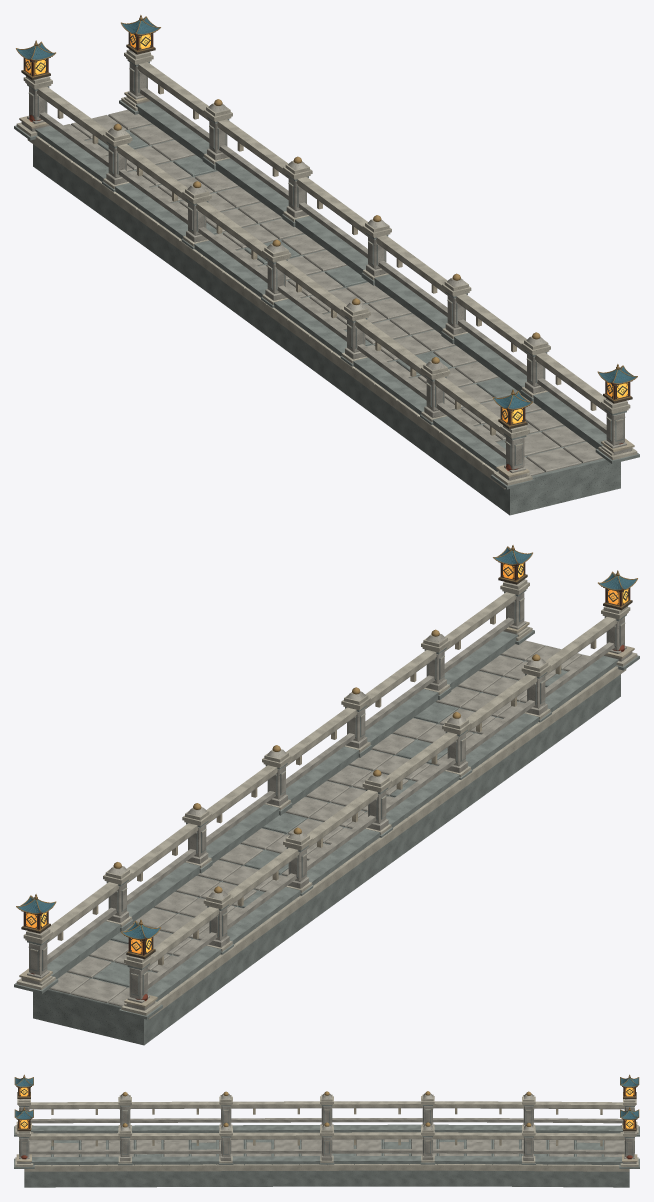
3 renders of one model, top to bottom at view 1: azimuth 30°, elevation 25°; view 2: azimuth 150°, elevation 25°; view 3: azimuth 270°, elevation 25°, orthographic. The views are drawn at different scales.
Parts seen in each view (by area): view 1: C16_cool, C16_stone, C16_light, C16_relief, C16_blue, C16_gold, C16_bronze, C16_paper; view 2: C16_cool, C16_stone, C16_light, C16_relief, C16_blue, C16_gold, C16_bronze, C16_paper; view 3: C16_cool, C16_stone, C16_light, C16_relief, C16_blue, C16_gold, C16_bronze, C16_paper, C16_teal, C16_motif.
Part boxes in pixels (x1,y1,x2,y2): C16_cool: [14, 60, 639, 515]; C16_stone: [21, 49, 632, 480]; C16_light: [16, 49, 637, 489]; C16_relief: [19, 84, 634, 477]; C16_blue: [17, 17, 636, 408]; C16_gold: [16, 15, 637, 426]; C16_bronze: [21, 32, 632, 429]; C16_paper: [25, 33, 627, 423]; C16_cool: [14, 590, 639, 1045]; C16_stone: [21, 579, 632, 1010]; C16_light: [16, 579, 637, 1019]; C16_relief: [19, 615, 634, 1007]; C16_blue: [17, 547, 636, 938]; C16_gold: [16, 545, 637, 956]; C16_bronze: [21, 562, 632, 959]; C16_paper: [26, 563, 628, 953]; C16_cool: [14, 1105, 639, 1187]; C16_stone: [17, 1093, 636, 1163]; C16_light: [15, 1094, 638, 1171]; C16_relief: [16, 1108, 637, 1161]; C16_blue: [15, 1078, 638, 1119]; C16_gold: [14, 1074, 639, 1129]; C16_bronze: [17, 1087, 636, 1131]; C16_paper: [19, 1087, 634, 1128]; C16_teal: [15, 1078, 638, 1118]; C16_motif: [122, 1091, 531, 1127].
Bounding box in the file's own units: 2.51 × 2.27 × 16.13.
12 materials, 5 textured.
